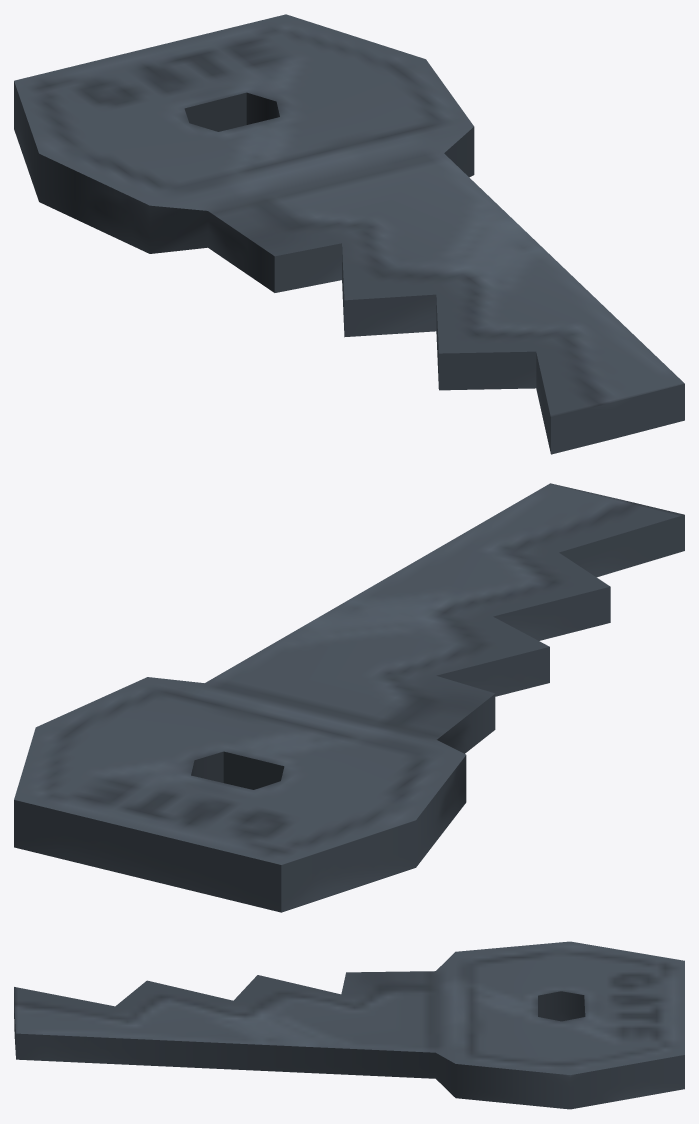
File: key.fbx
The picture shows the model from 3 angles, top to bottom: view 1: azimuth 30°, elevation 25°; view 2: azimuth 150°, elevation 25°; view 3: azimuth 270°, elevation 25°; orthographic projection. The views are drawn at different scales.
Parts seen in each view (by area): view 1: Plane; view 2: Plane; view 3: Plane.
Boxes of the visible parts, left/top/right/bottom form: Plane: left=14, top=14, right=684, bottom=454; Plane: left=14, top=483, right=684, bottom=912; Plane: left=14, top=941, right=684, bottom=1109.
Bounding box in the file's own units: 40.56 × 4.85 × 86.03.
1 material, 1 textured.
